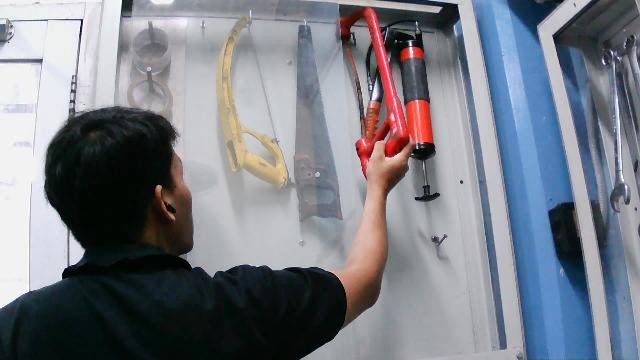gergaji_besi: (332, 5, 411, 185)
